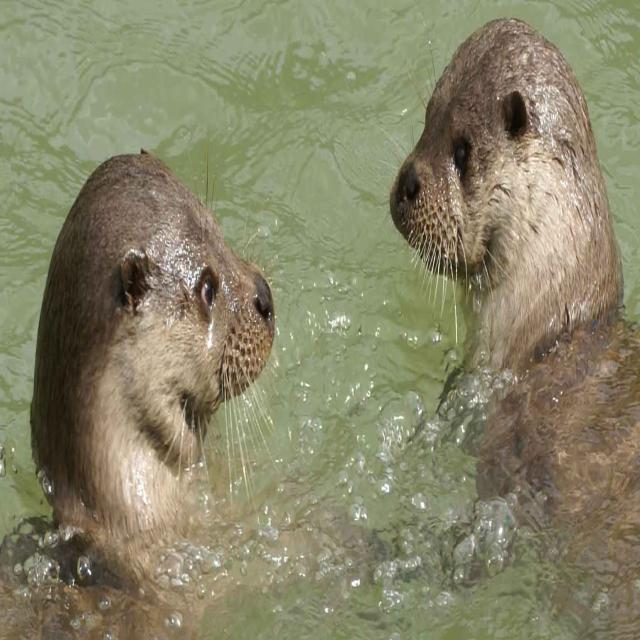otter: (31, 153, 277, 514), (389, 15, 624, 360)
